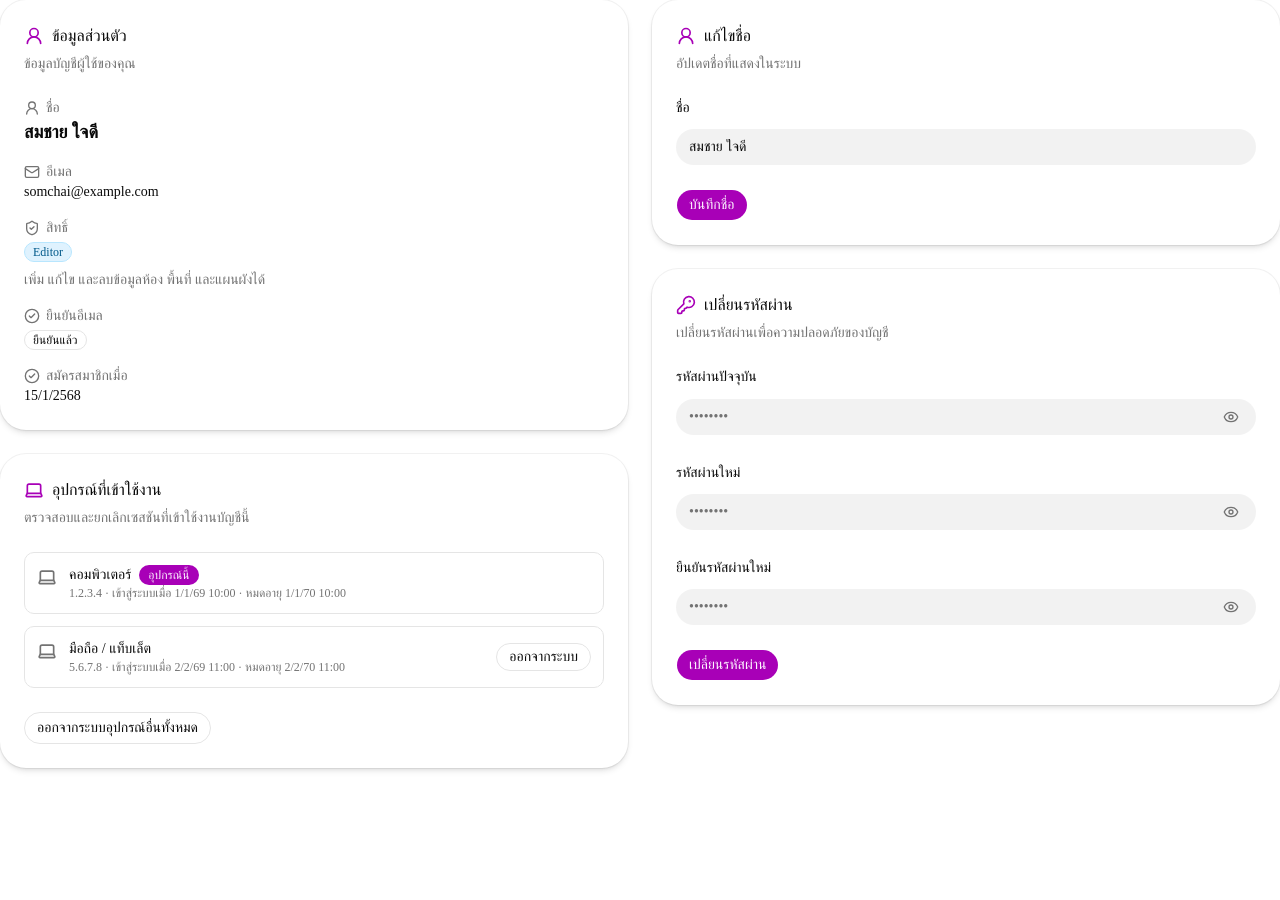
Scenario: ProfileClient - change name › maps an updateUser error to a Thai message
This screenshot has width=1280, height=900.
In the field labelled "ชื่อ": x=966, y=147 [676,129,1256,165], type "ใหม่"
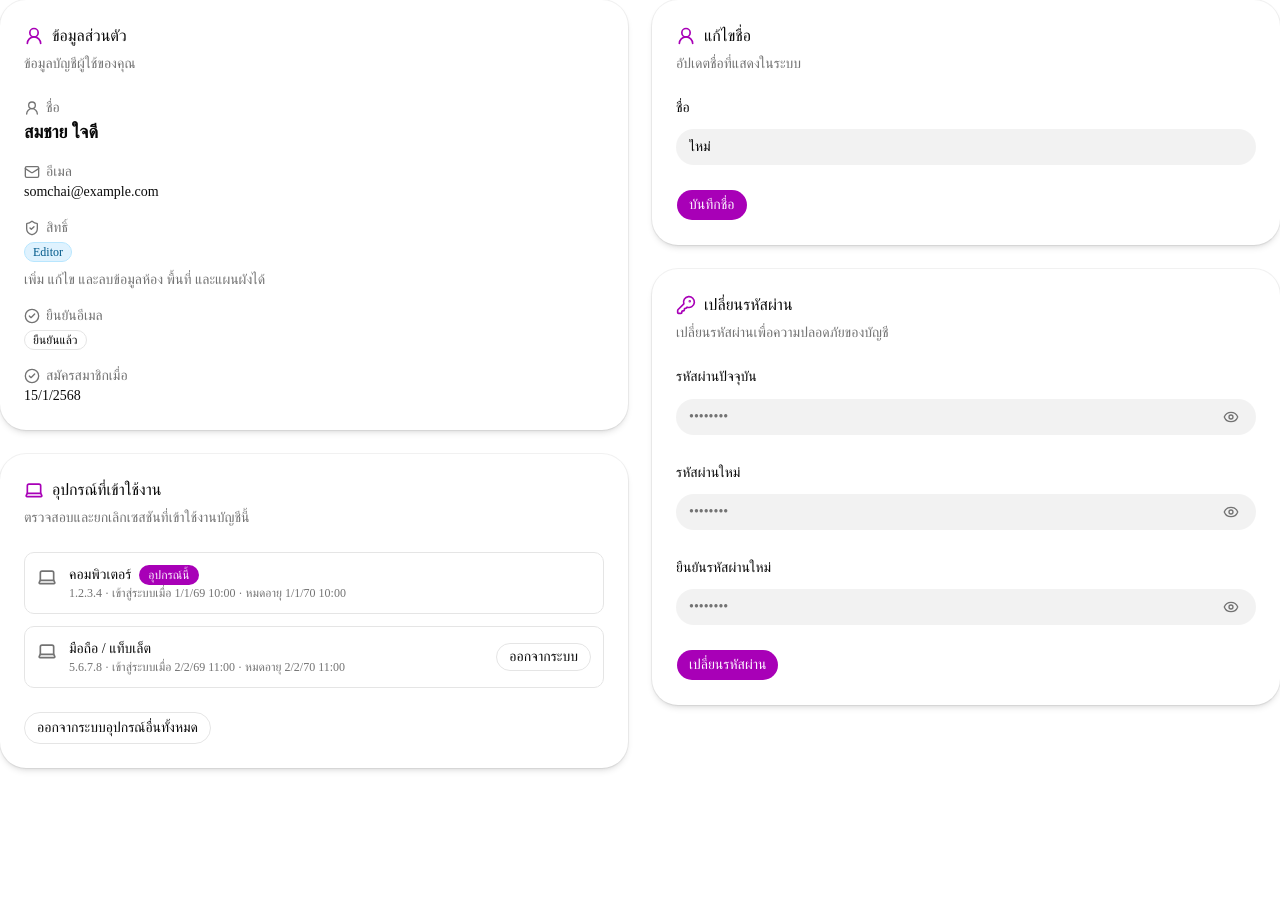
Submit the form "ชื่อ", box [676,98,1256,165]
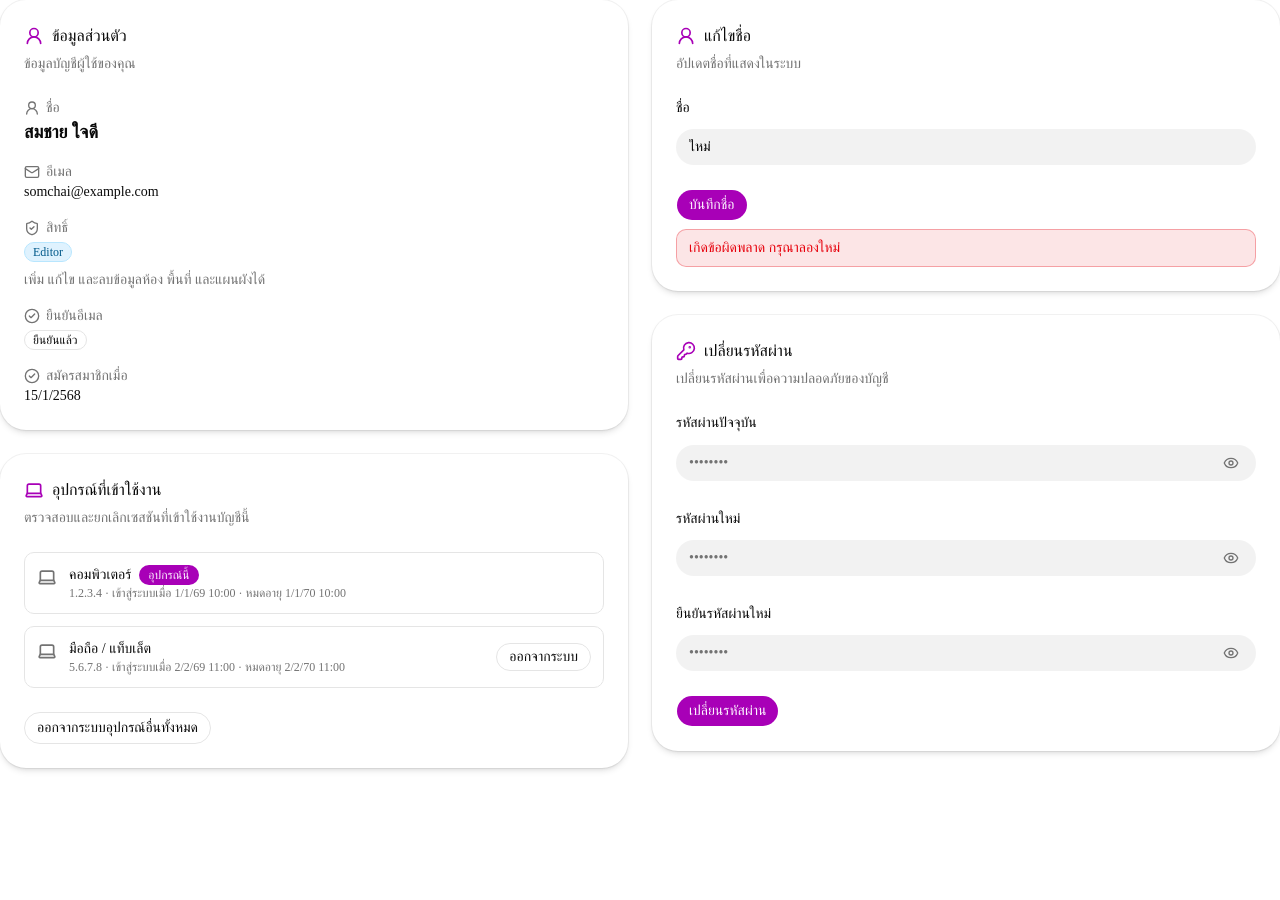
Result: the text "เกิดข้อผิดพลาด กรุณาลองใหม่" is shown at [676,229,1256,267]
